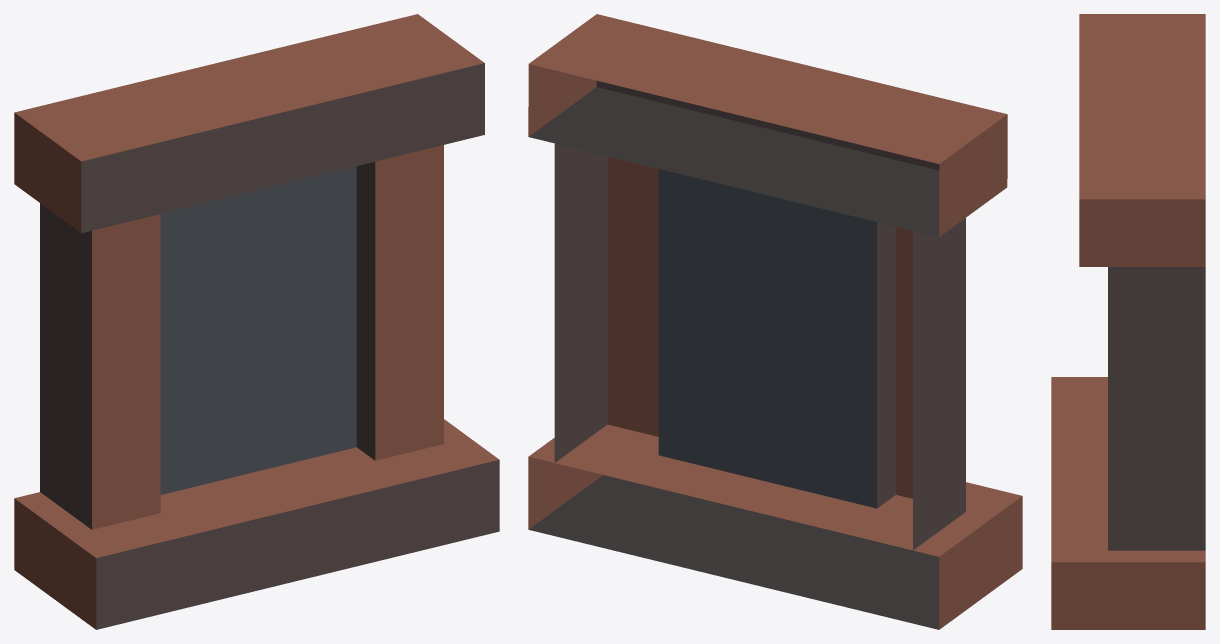
Rendered from TB_D_Bd_Window_B.FBX.
3 views of the same model, side by side, from view 1: azimuth 30°, elevation 25°; view 2: azimuth 150°, elevation 25°; view 3: azimuth 270°, elevation 25° (orthographic). The views are drawn at different scales.
Parts seen in each view (by area): view 1: TB_D_Bd_Window_B; view 2: TB_D_Bd_Window_B; view 3: TB_D_Bd_Window_B.
Boxes of the visible parts, <box> form: TB_D_Bd_Window_B: <box>14,14,499,629</box>; TB_D_Bd_Window_B: <box>528,14,1022,629</box>; TB_D_Bd_Window_B: <box>1051,14,1205,629</box>.
Bounding box in the file's own units: 0.94 × 1.02 × 0.3302.
